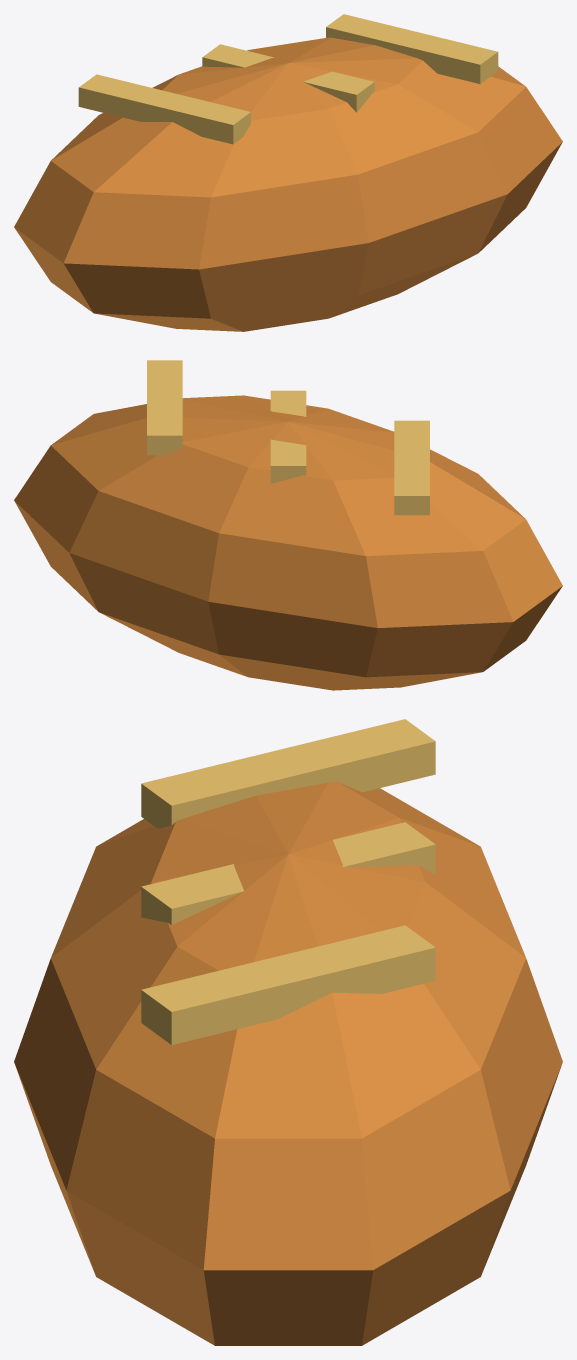
The model's file is good_bread.glb.
3 renders of one model, top to bottom at view 1: azimuth 30°, elevation 25°; view 2: azimuth 150°, elevation 25°; view 3: azimuth 270°, elevation 25°, orthographic. The views are drawn at different scales.
Parts seen in each view (by area): view 1: good_bread; view 2: good_bread; view 3: good_bread.
Boxes of the visible parts, x1=… form: good_bread: x1=14, y1=14, x2=562, y2=331; good_bread: x1=14, y1=360, x2=562, y2=690; good_bread: x1=14, y1=719, x2=562, y2=1345.
Bounding box in the file's own units: 0.3234 × 0.15 × 0.18.
